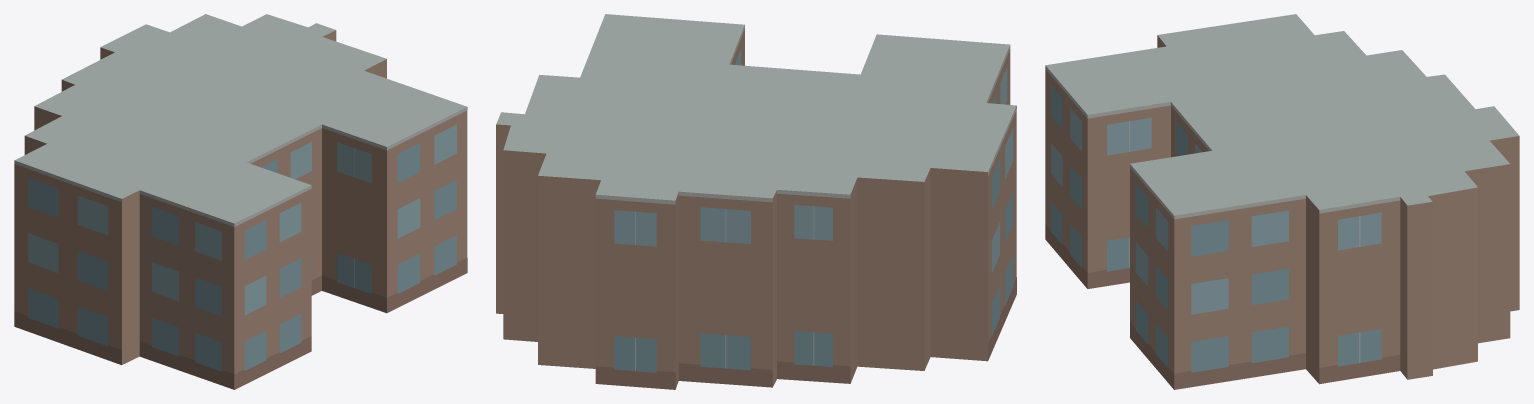
The model's file is survey-upis-32480351.glb.
3 renders of one model, left to right at view 1: azimuth 30°, elevation 25°; view 2: azimuth 150°, elevation 25°; view 3: azimuth 270°, elevation 25°, orthographic. The views are drawn at different scales.
Parts seen in each view (by area): view 1: survey-upis-32480351.tmp; view 2: survey-upis-32480351.tmp; view 3: survey-upis-32480351.tmp.
Boxes of the visible parts, x1=… form: survey-upis-32480351.tmp: x1=14, y1=14, x2=467, y2=389; survey-upis-32480351.tmp: x1=496, y1=14, x2=1016, y2=389; survey-upis-32480351.tmp: x1=1045, y1=14, x2=1519, y2=389.
Bounding box in the file's own units: 28.82 × 11.6 × 28.63.
